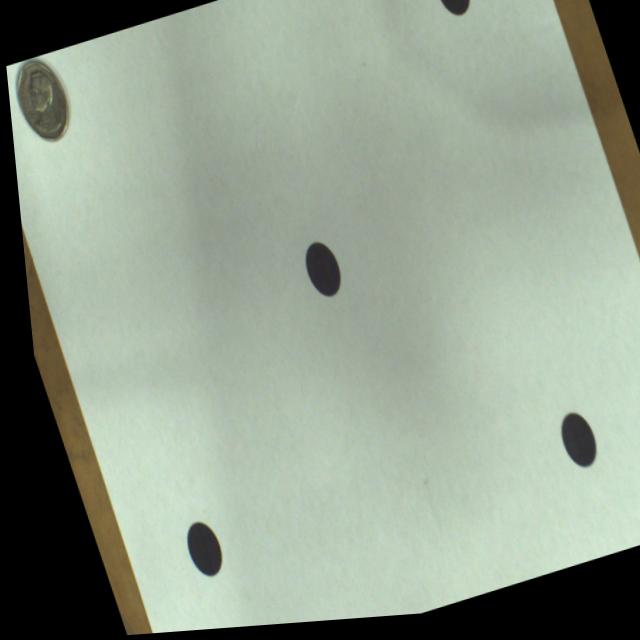head5bath: (14, 60, 66, 141)
space: (551, 420, 586, 476), (175, 523, 210, 579), (299, 246, 334, 301), (438, 0, 469, 21)
